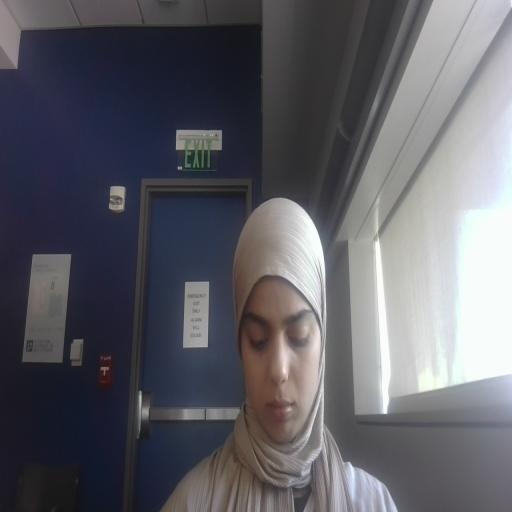lookingdownatphone: (240, 277, 321, 443)
